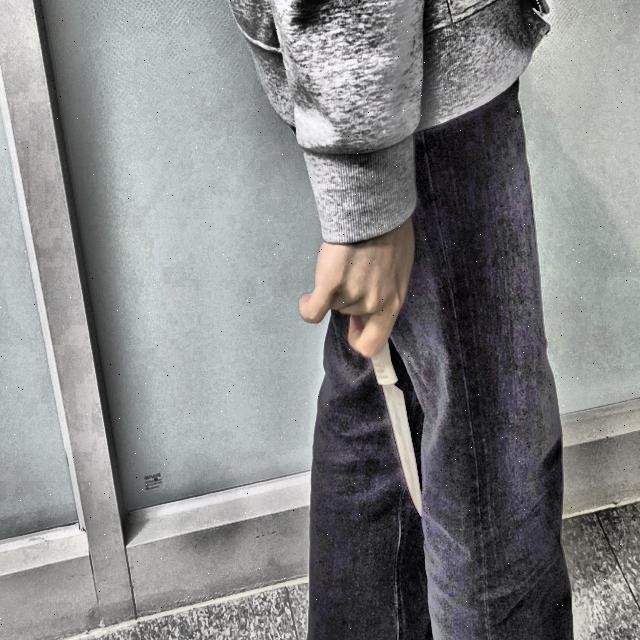knife: (361, 299, 424, 519)
